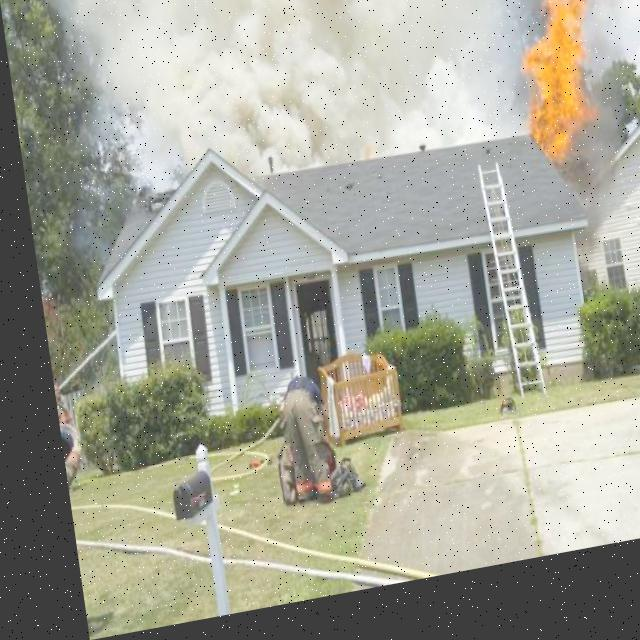Fire: (505, 0, 621, 190)
